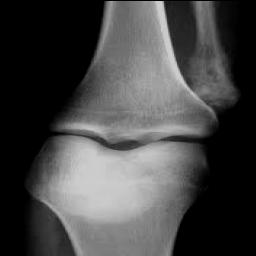cancer: (182, 38, 240, 117)
